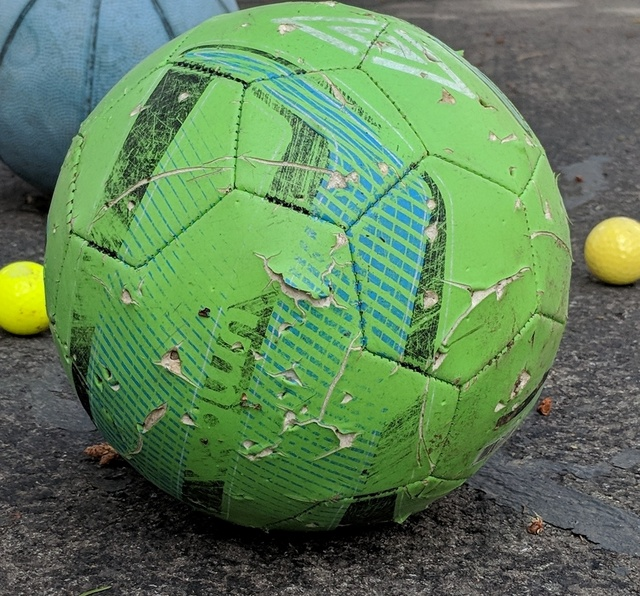ball: (42, 1, 574, 538)
